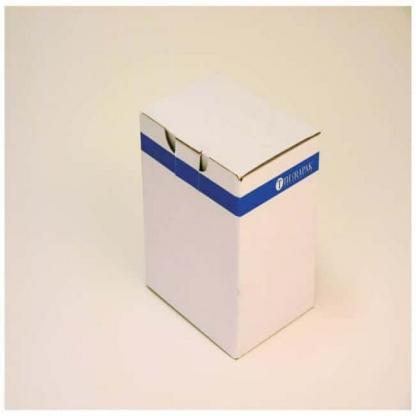-: (141, 70, 322, 362)
